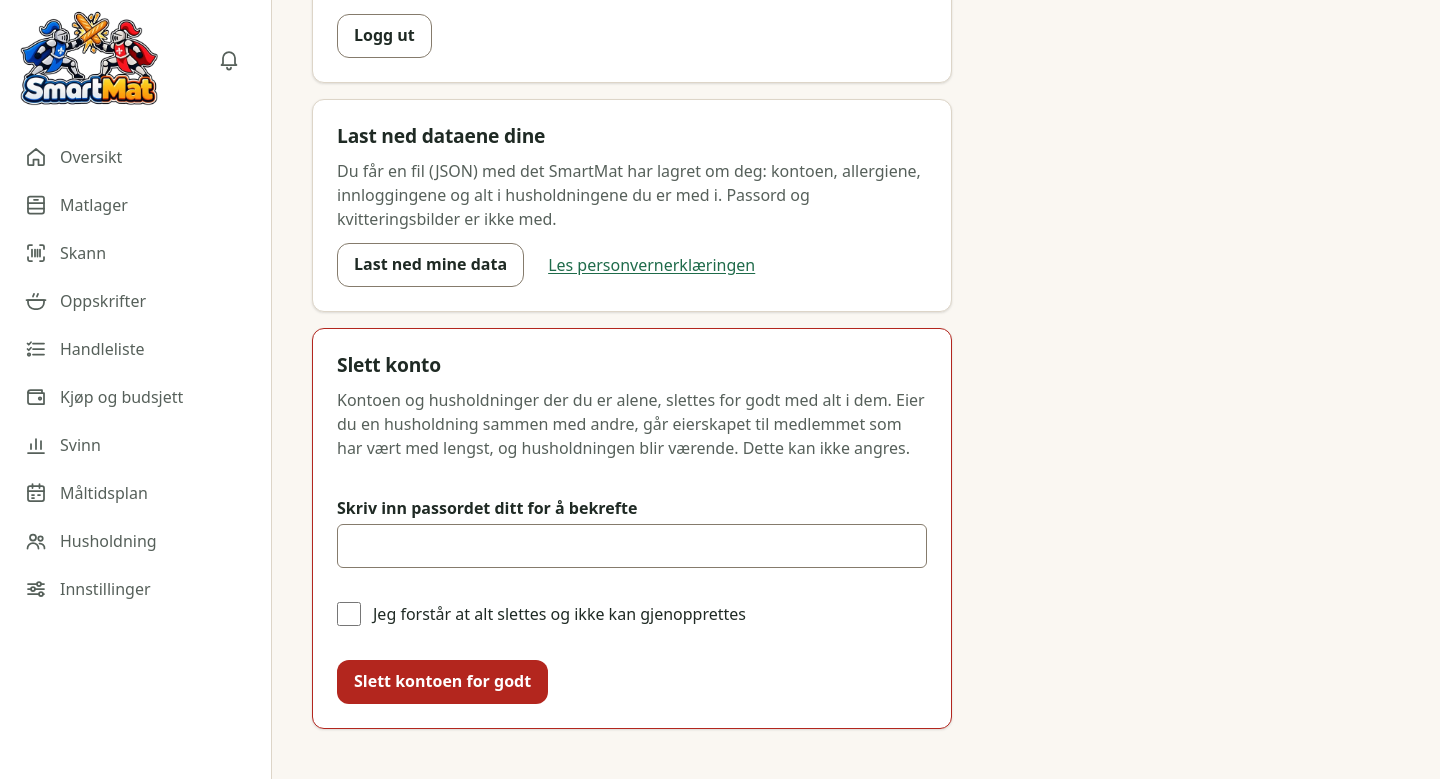
FR-AUTH-005 delete account › needs both the password and the confirmation box
(page scrolled)
Click the button "Slett kontoen for godt": (443, 682) [337, 660, 548, 704]
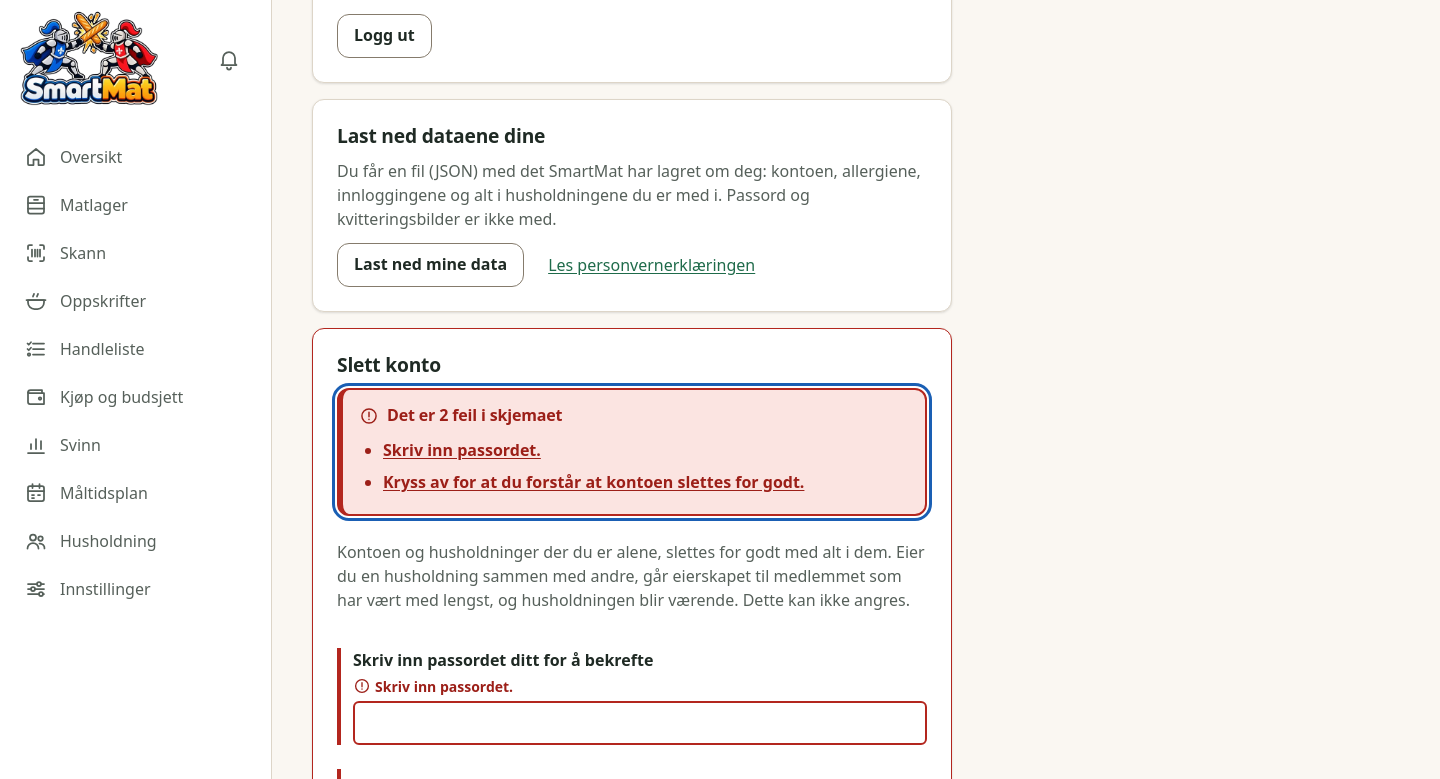
Check: the message shows "Skriv inn passordet.", box [383, 434, 541, 466]
Check: the message shows "Kryss av for at du forstår", box [383, 466, 804, 498]
